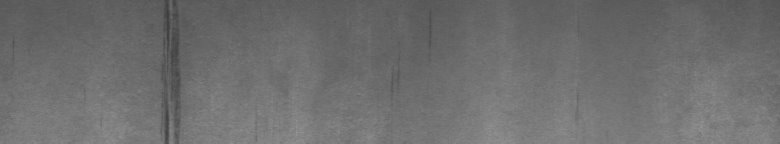hd: (160, 4, 184, 136)
